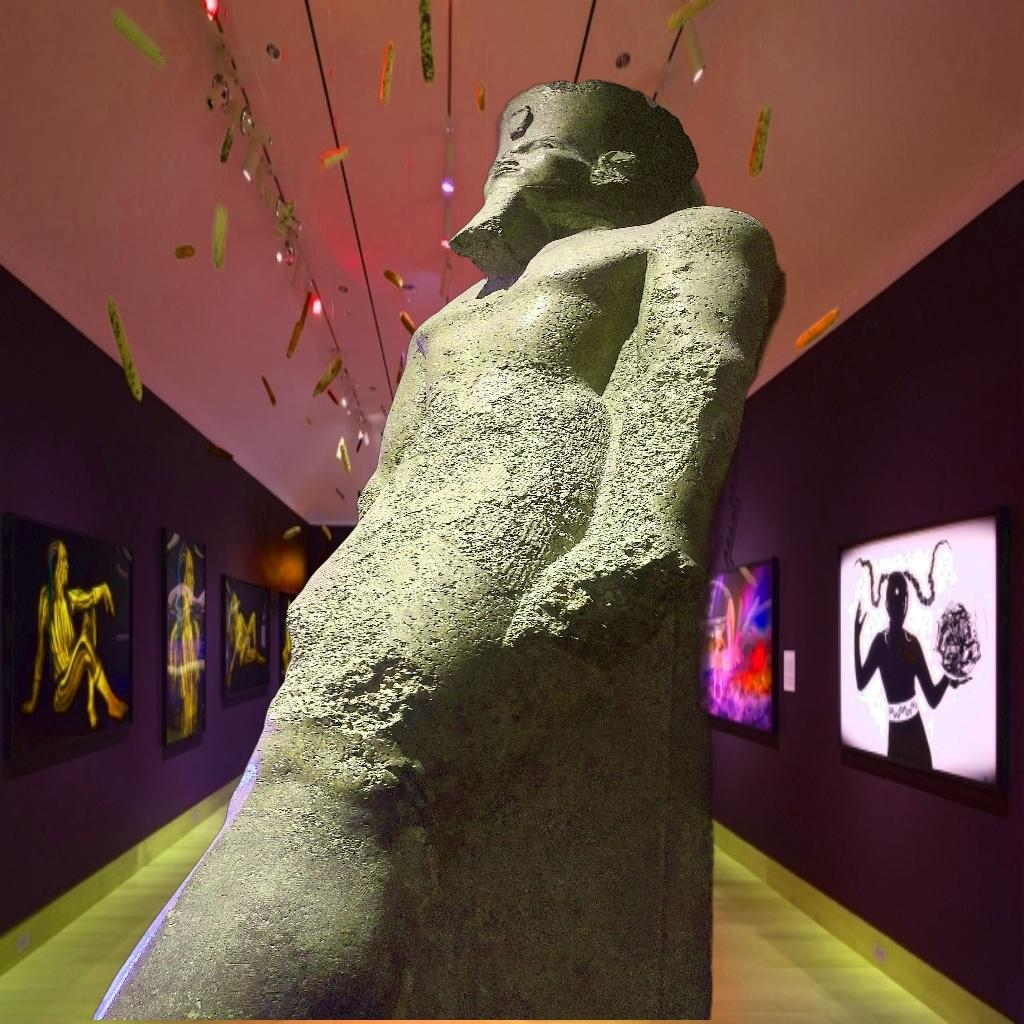Senwosret III: (90, 74, 786, 1020)
